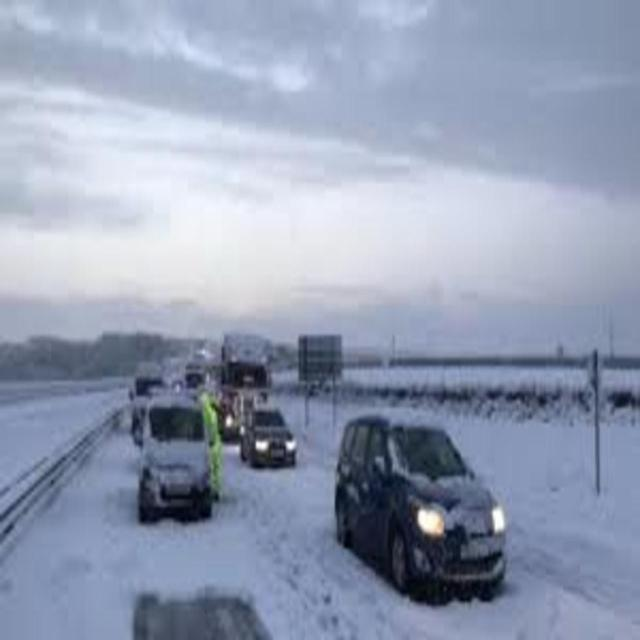bus: (216, 339, 272, 437)
car: (331, 412, 511, 604), (140, 395, 212, 507), (241, 404, 297, 469), (130, 362, 163, 428)
